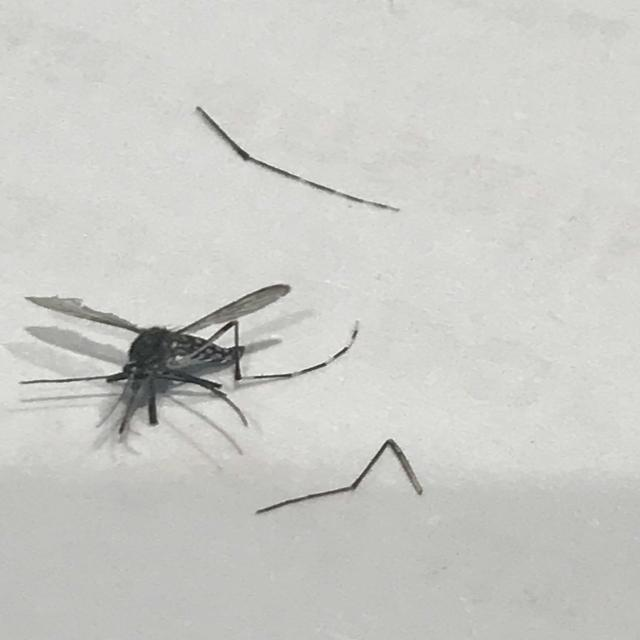albopictus: (24, 273, 364, 453)
